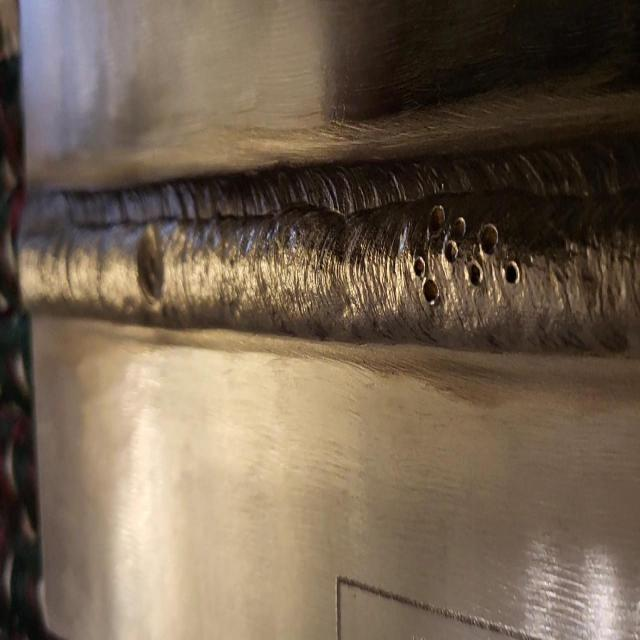Welding Line: (28, 202, 640, 326)
Workpiece: (23, 6, 640, 633)
porosity: (414, 205, 520, 305), (135, 223, 165, 306)
